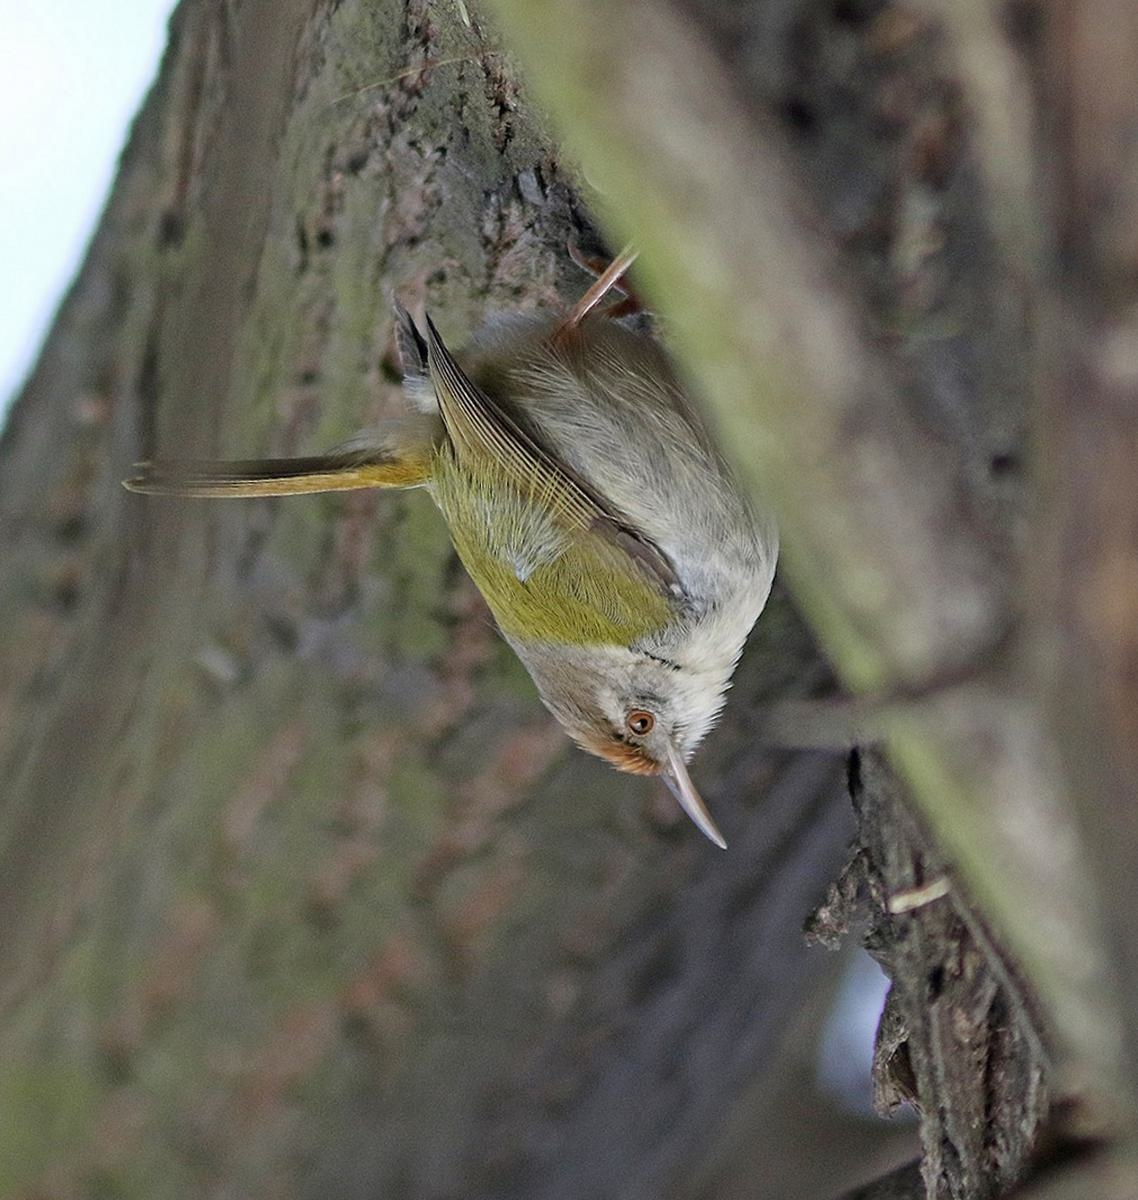tailorbird: (169, 253, 837, 828)
